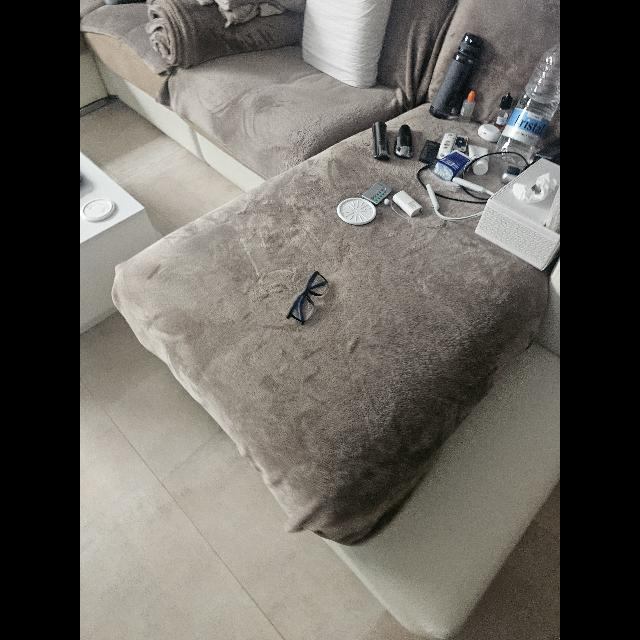glasses: (287, 271, 329, 325)
